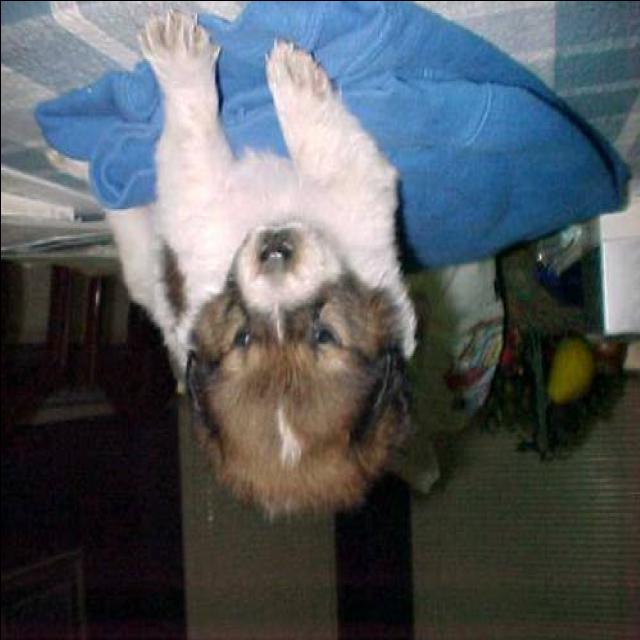dog: (90, 0, 446, 538)
